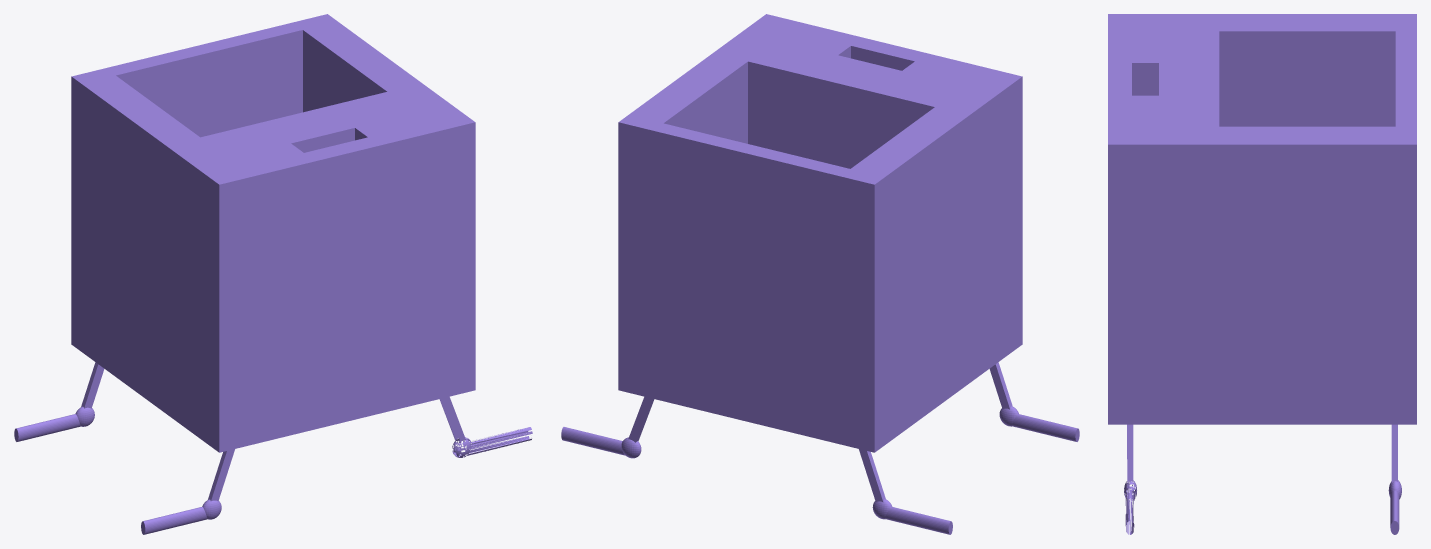
3 renders of one model, left to right at view 1: azimuth 30°, elevation 25°; view 2: azimuth 150°, elevation 25°; view 3: azimuth 270°, elevation 25°, orthographic. The views are drawn at different scales.
Parts seen in each view (by area): view 1: car; view 2: car; view 3: car.
Part boxes in pixels (x1,y1,x2,y2): car: [14, 14, 532, 534]; car: [561, 14, 1079, 534]; car: [1108, 14, 1416, 534].
Bounding box in the file's own units: 3.02 × 2 × 2.56.
